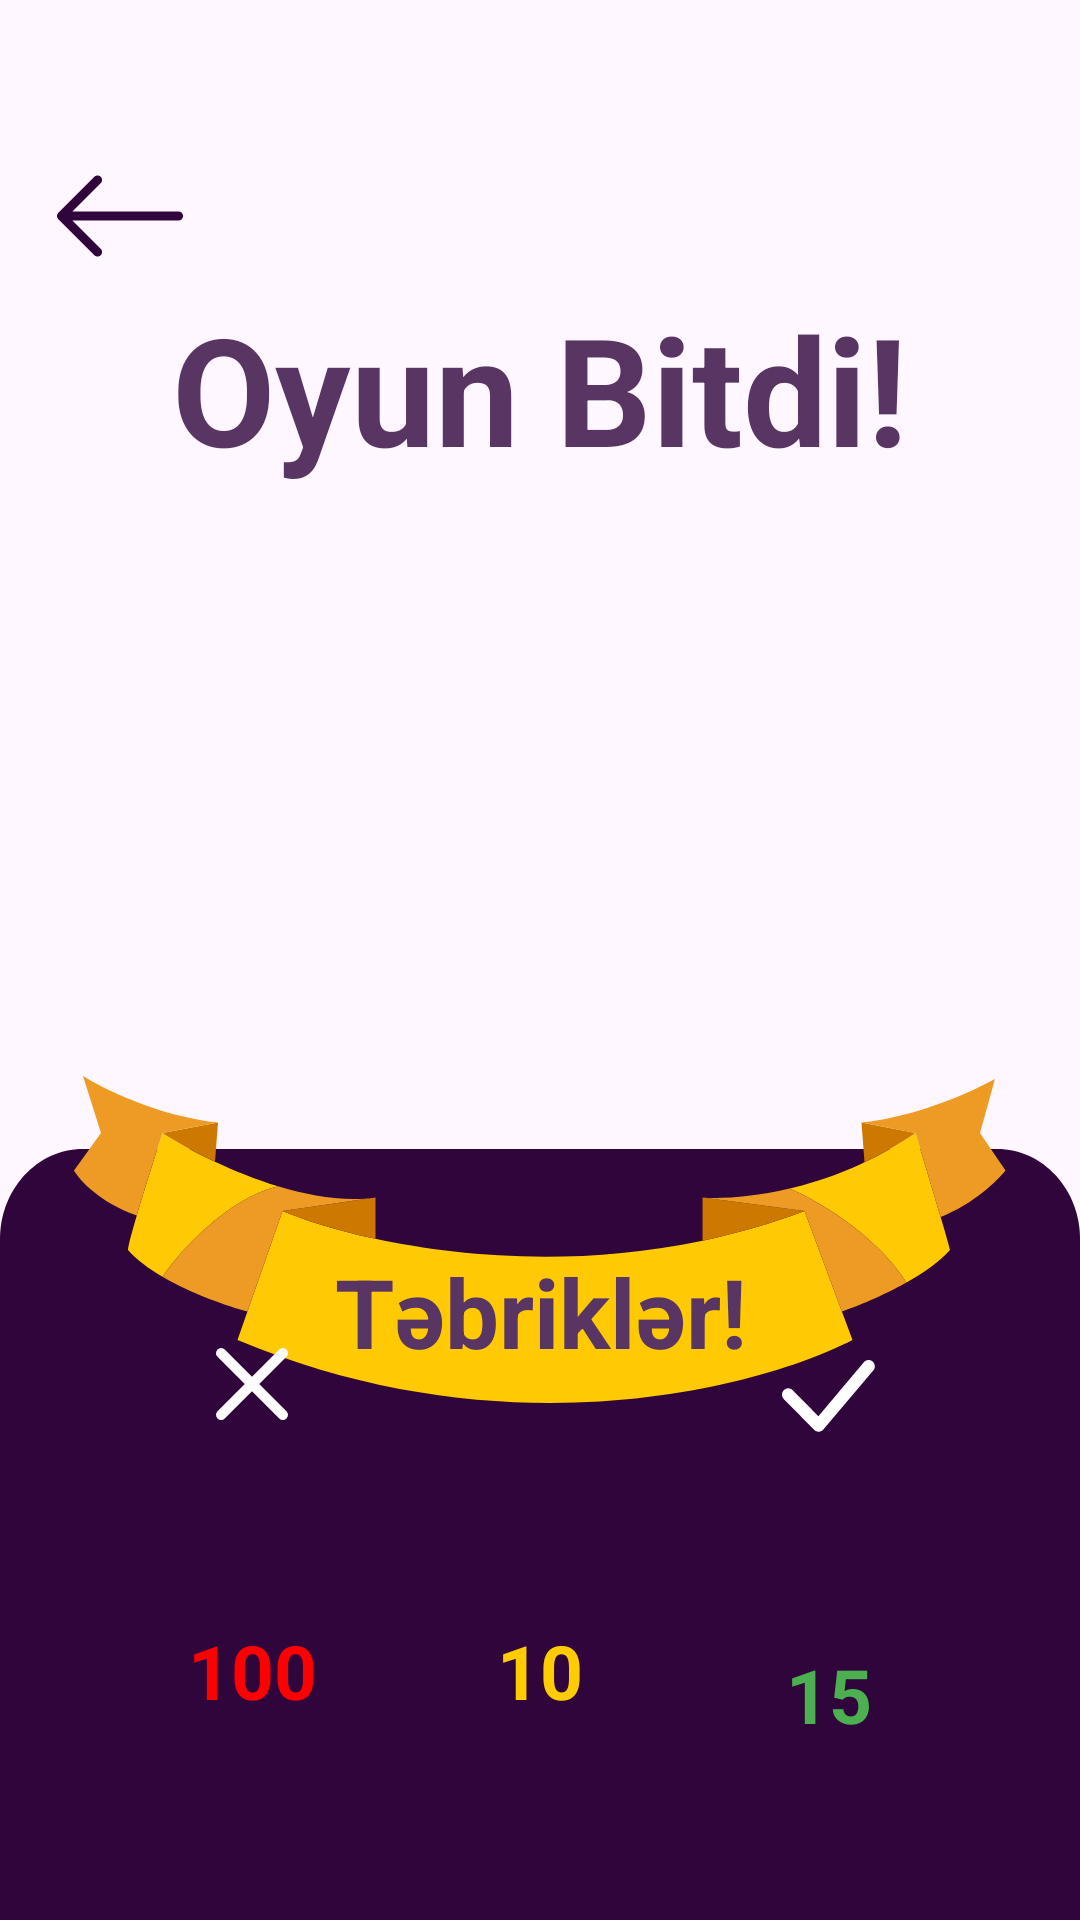

Where to tap for icons on this 1080*1920 app screen, as point (x, y):
back: point (120, 216)
